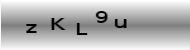9: (95, 9, 108, 24)
K: (50, 17, 66, 31)
L: (75, 21, 88, 36)
u: (114, 17, 127, 29)
z: (24, 23, 37, 34)
